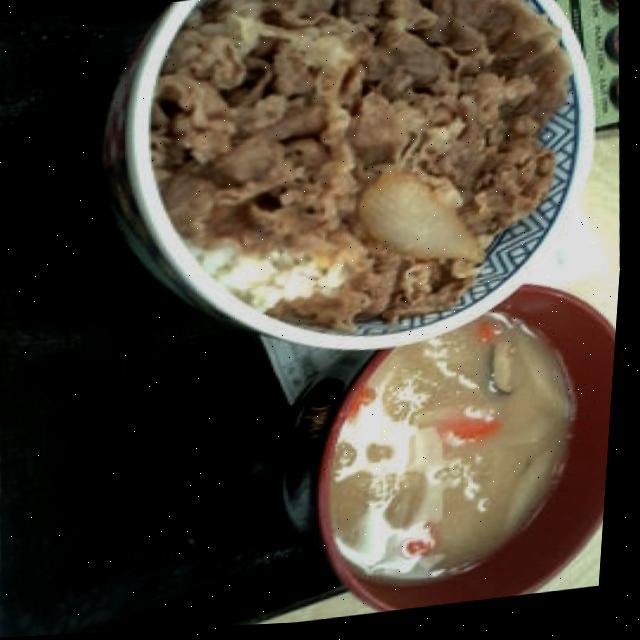蔬菜料理: (244, 251, 625, 629)
